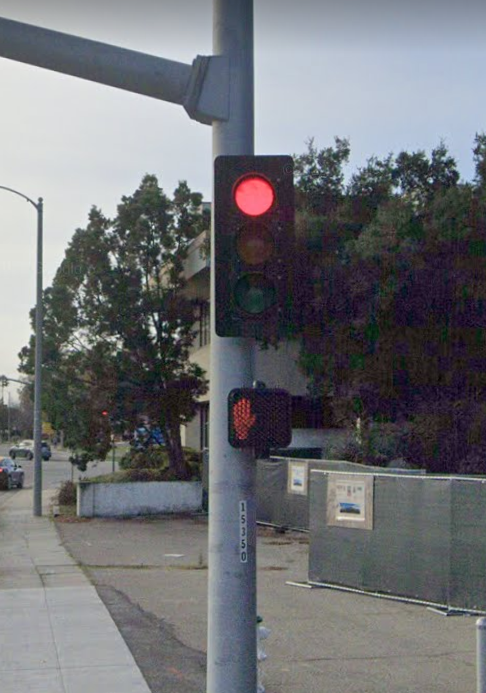red_light: (218, 160, 292, 333)
